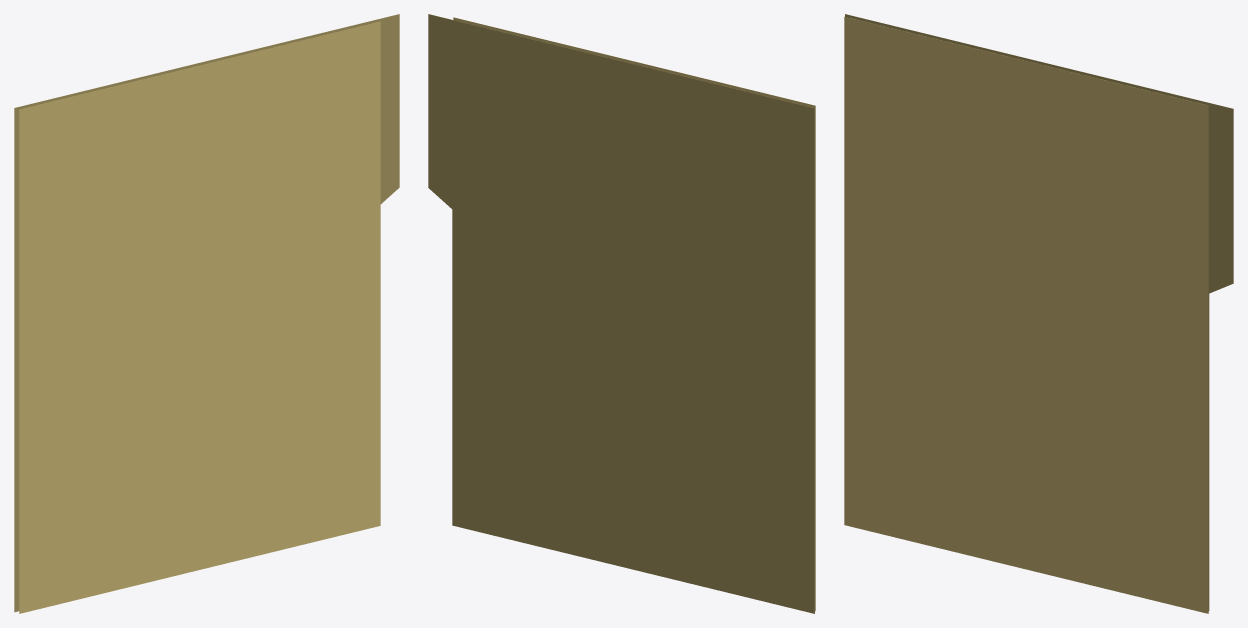
The model's file is closed_folder.fbx.
The picture shows the model from 3 angles, left to right: view 1: azimuth 30°, elevation 25°; view 2: azimuth 150°, elevation 25°; view 3: azimuth 330°, elevation 25°; orthographic projection.
Parts seen in each view (by area): view 1: Cube.009; view 2: Cube.009; view 3: Cube.009.
Part boxes in pixels (bbox=[...]): Cube.009: bbox=[14, 14, 399, 613]; Cube.009: bbox=[428, 14, 815, 613]; Cube.009: bbox=[844, 14, 1233, 613].
Size of the model in its own units: 160 by 200 by 2.19.
